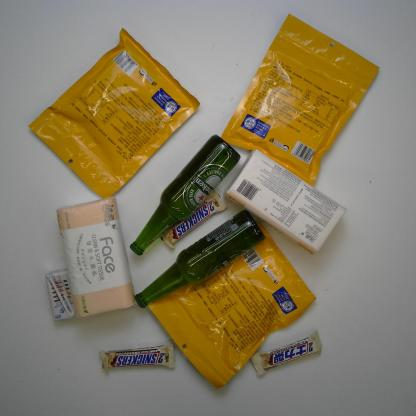Alcohol: (129, 133, 241, 257), (135, 209, 266, 310)
Chocolate: (159, 188, 229, 250), (251, 330, 323, 376), (99, 343, 175, 370)
Dried Fruit: (27, 26, 202, 199), (147, 219, 317, 390), (220, 12, 381, 187)
Milk: (44, 268, 77, 322)
Tissue: (224, 148, 347, 256), (55, 197, 136, 319)
